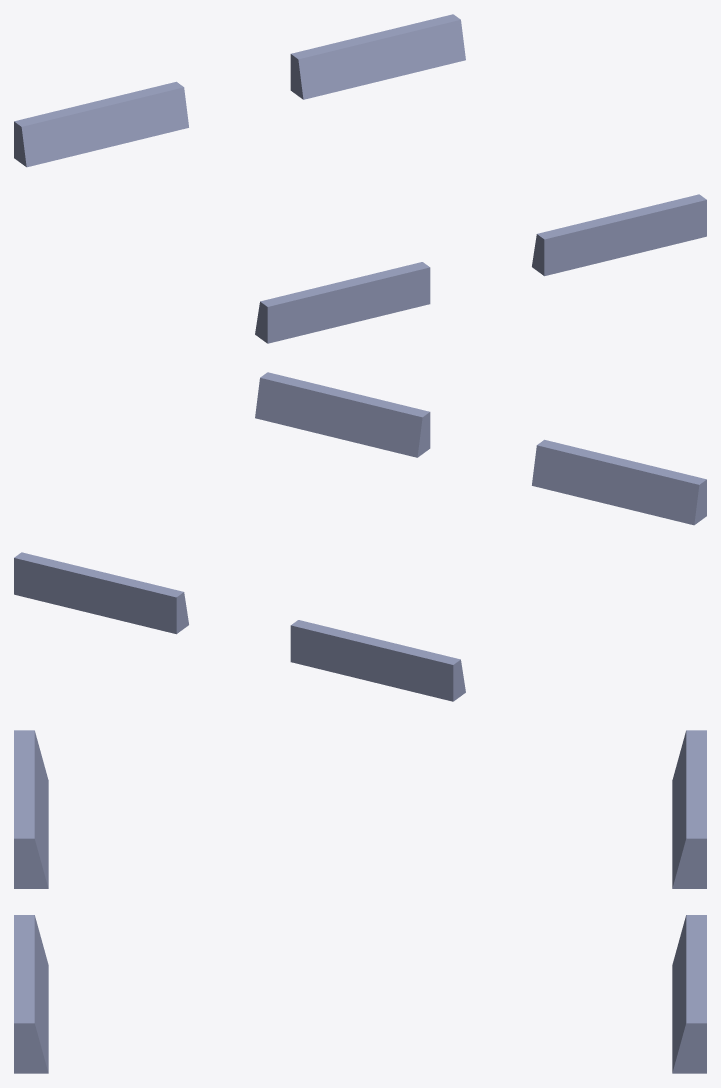
File: road-driveway-double-barrier.glb
3 renders of one model, top to bottom at view 1: azimuth 30°, elevation 25°; view 2: azimuth 150°, elevation 25°; view 3: azimuth 270°, elevation 25°, orthographic. The views are drawn at different scales.
Visible parts, largest first — view 1: road-driveway-double-barrier; view 2: road-driveway-double-barrier; view 3: road-driveway-double-barrier.
Part boxes in pixels (bbox=[...]): road-driveway-double-barrier: bbox=[14, 14, 706, 343]; road-driveway-double-barrier: bbox=[14, 372, 706, 701]; road-driveway-double-barrier: bbox=[14, 730, 706, 1073].
Size of the model in its own units: 1 by 0.08 by 1.
